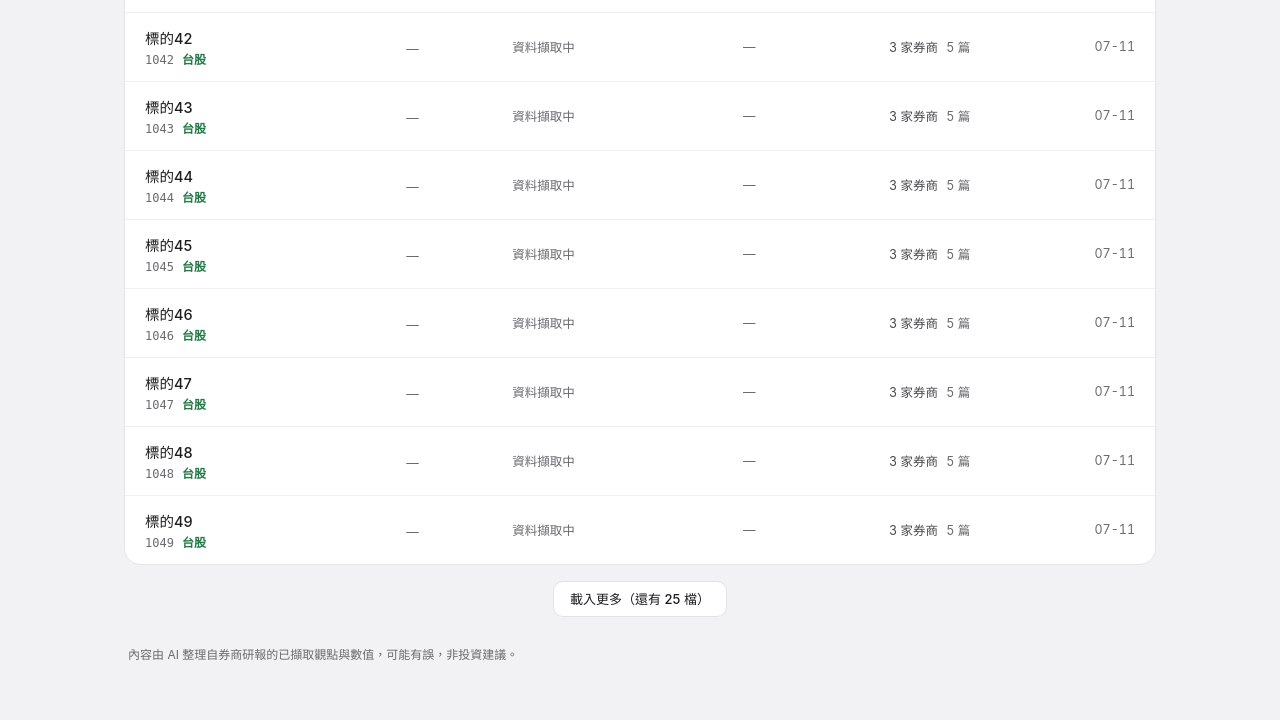
Test case: RadarPage › 標的目錄可依 offset 載入全部結果
The width and height of the screenshot is (1280, 720).
(page scrolled)
Step 1. Click the button "載入更多（還有 25 檔）" → (640, 598), box [553, 580, 727, 616]
(page scrolled)
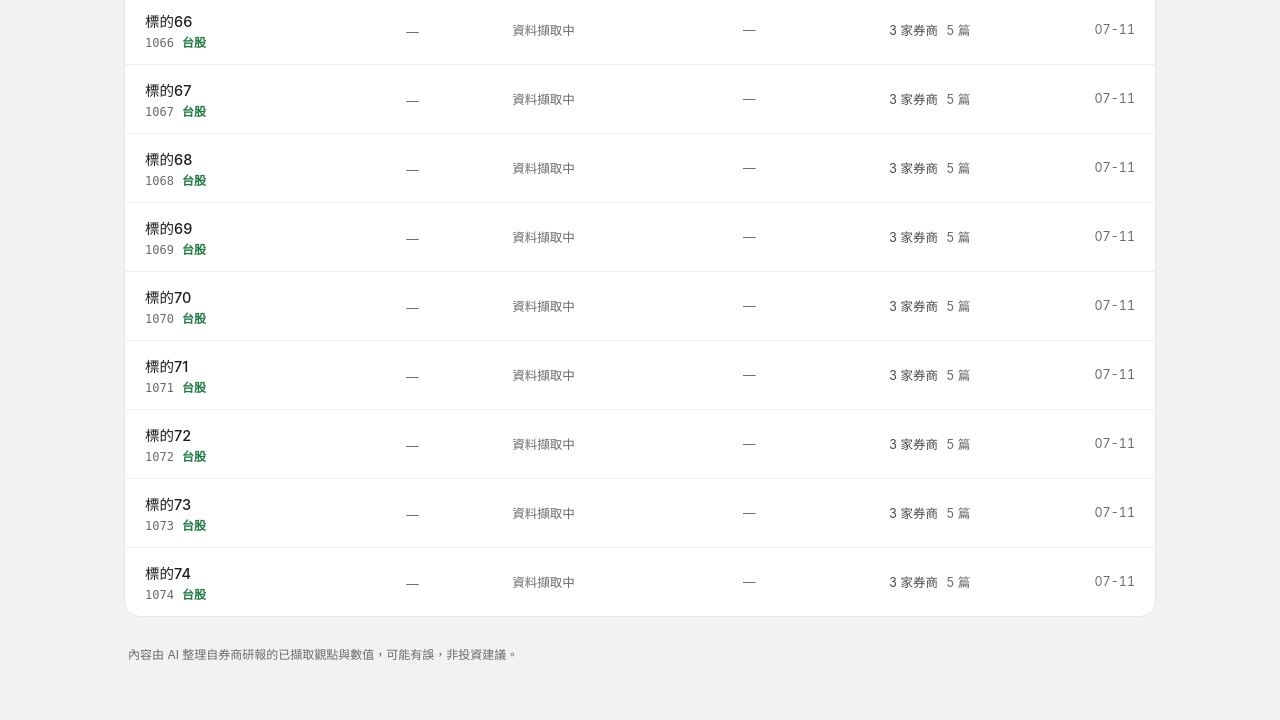
Now the link "標的74" is shown, box [145, 564, 191, 582]
Now the button "載入更多" is gone
